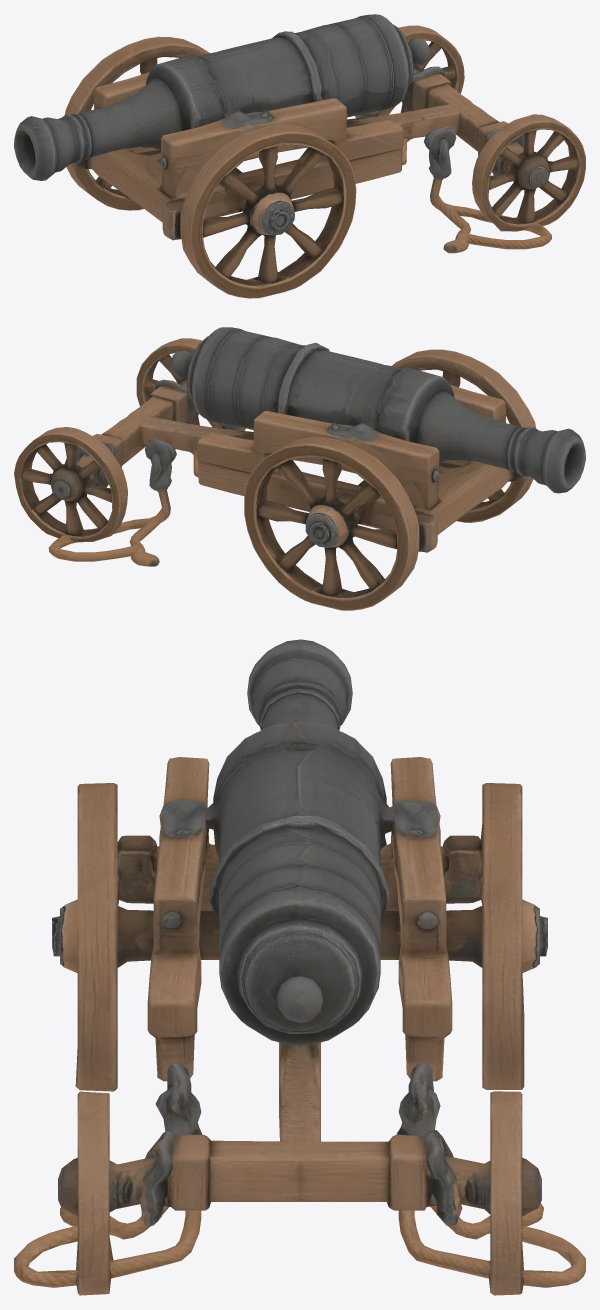
File: war-cannon.opt.glb
3 views of the same model, one above another, from view 1: azimuth 30°, elevation 25°; view 2: azimuth 150°, elevation 25°; view 3: azimuth 270°, elevation 25° (orthographic). The views are drawn at different scales.
Size of the model in its own units: 1.91 by 0.7007 by 1.12.
1 material, 1 textured.
